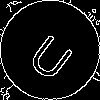U: (25, 25, 82, 84)
